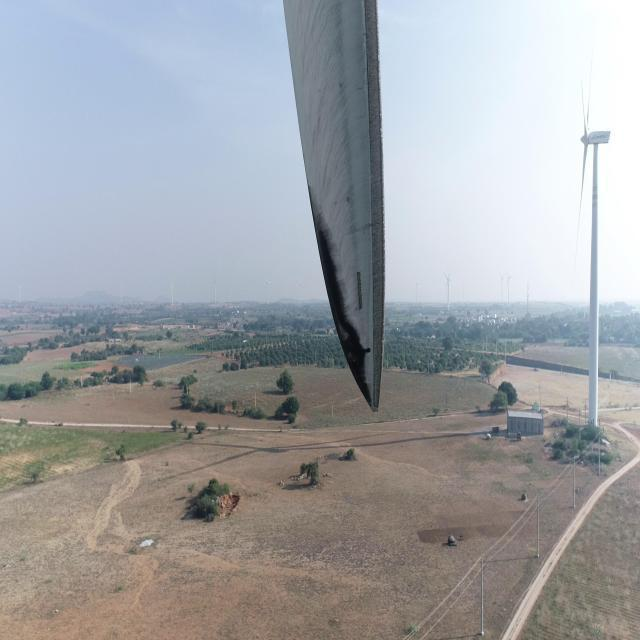Dirt: (282, 0, 383, 412)
Oil LEAKAGE: (306, 188, 377, 408)
Pin Hole: (360, 343, 374, 358)
